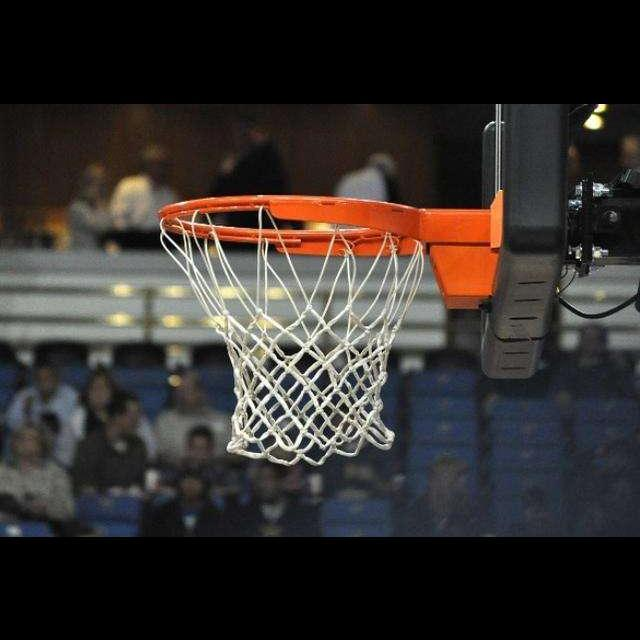rim: (160, 197, 424, 468)
